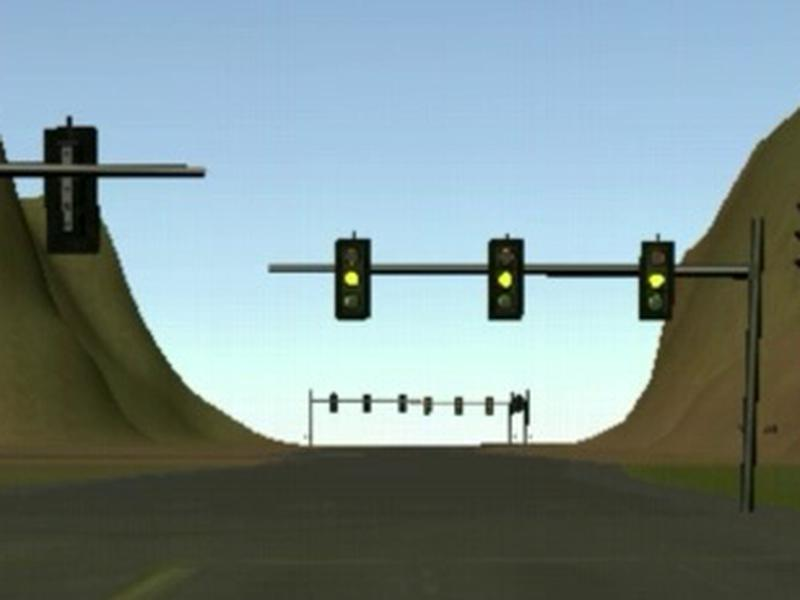Yellow: (637, 240, 675, 321), (489, 238, 525, 321), (335, 237, 370, 322)
